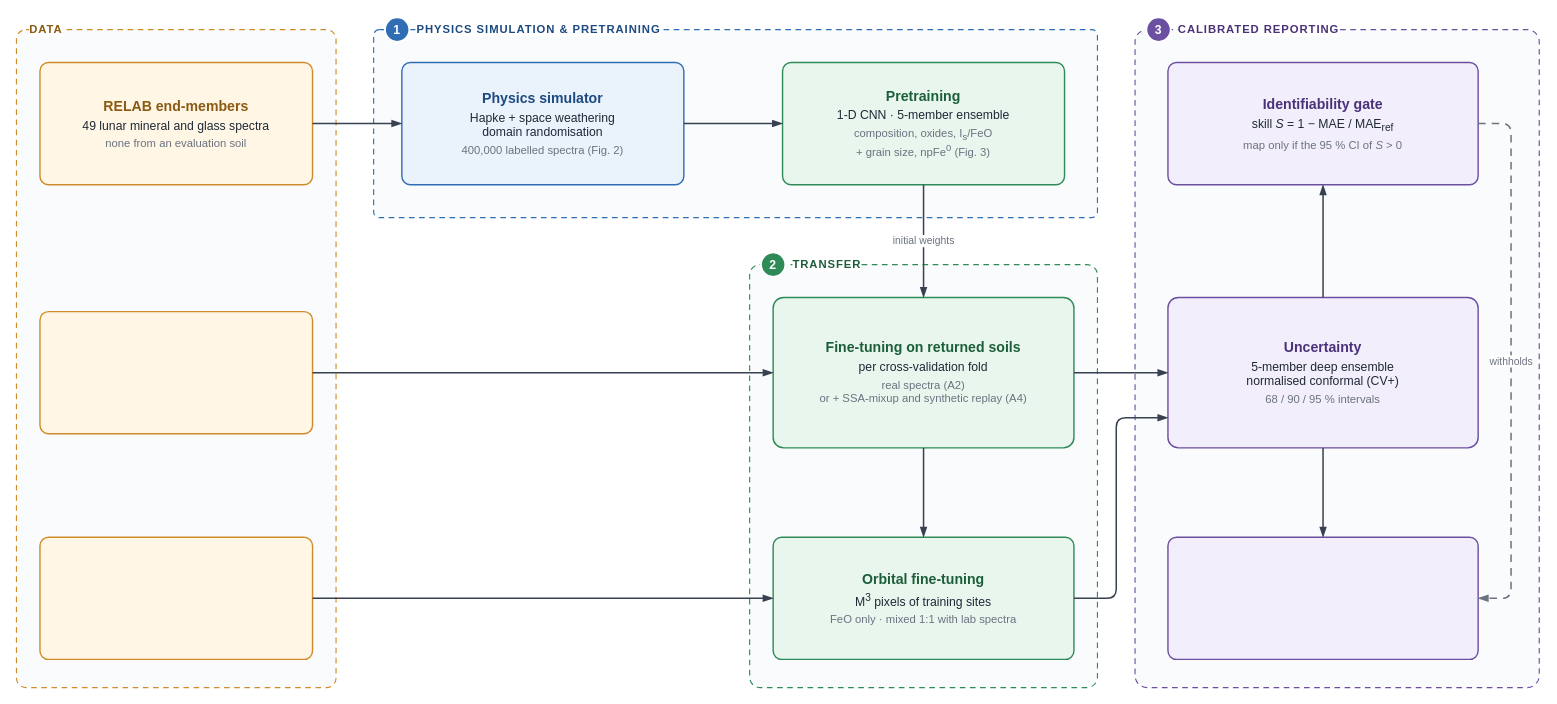
The diagram is 1557 pixels wide and 704 high, and some of its shapes have lost their labels. Here are the shapes that lost their labels. From the top down, the centre of each, then its label:
At [176,372]: "LSCC soils 19 soils · 75 RELAB spectra modal mineralogy, oxides, I s /FeO".
At [176,598]: "M 3 at returned-sample sites 49 sites · laboratory FeO Qiu et al. (2025)".
At [1322,598]: "Outputs mode, oxides, maturity with intervals unidentifiable targets withheld".
